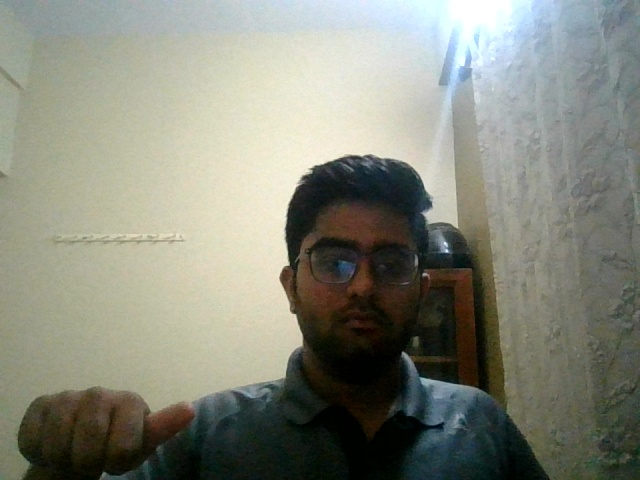Yes: (11, 380, 210, 480)
